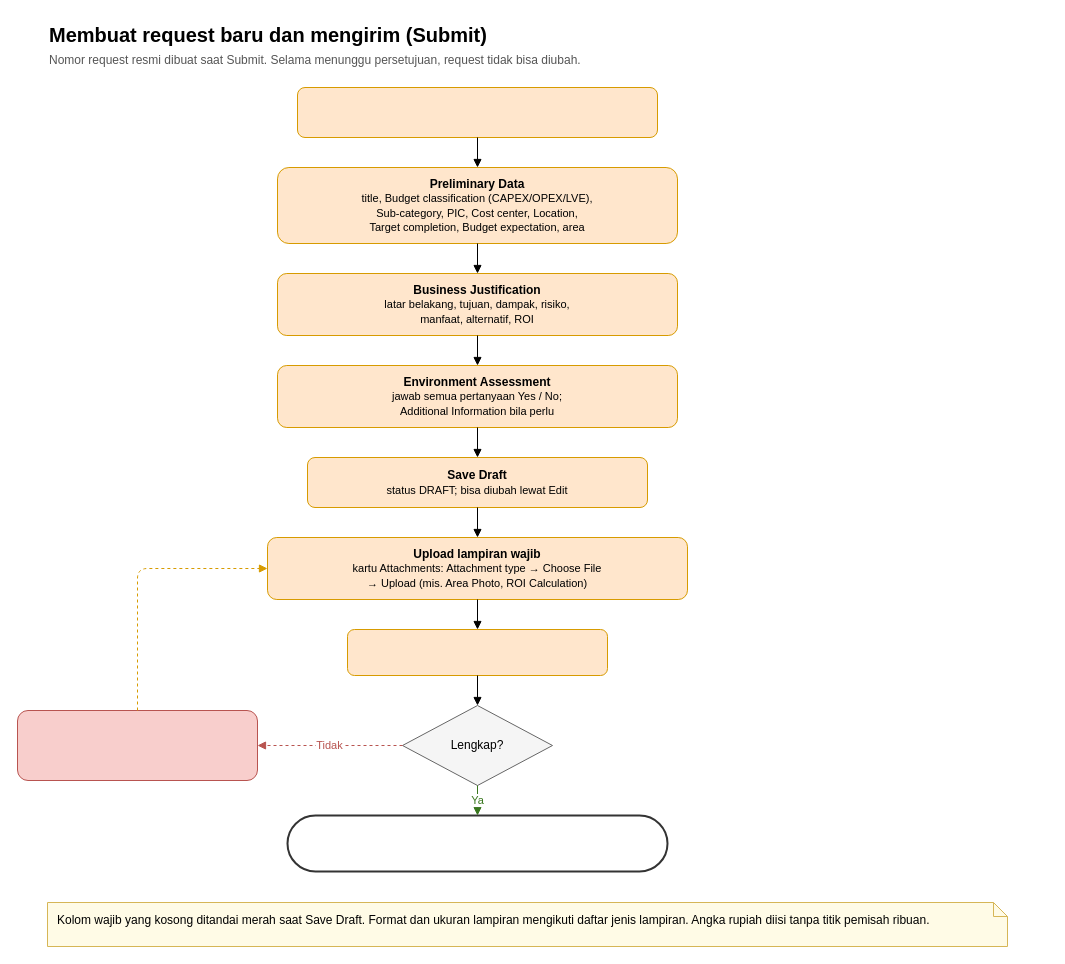
Image size: 1065x964. Some labels were removed from this diagram. Each missing label, with the centre of its shape:
"Error isian wajib, assessment, ROI (CAPEX), atau lampiran wajib belum lengkap" belongs at pixel 137 745.
"Request > Create Request Company dan departemen terisi otomatis" belongs at pixel 477 112.
"Submit konfirmasi" belongs at pixel 477 652.
"WAITING APPROVAL nomor request resmi dibuat; tugas ke Kabag" belongs at pixel 477 843.
